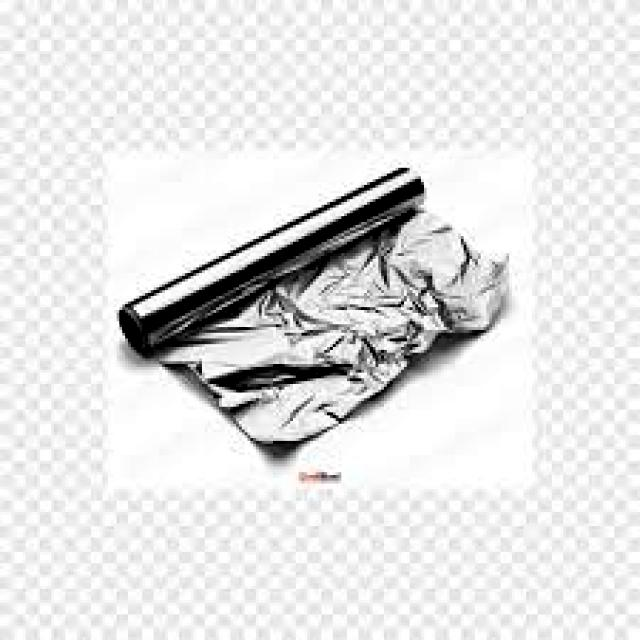Metal: (106, 158, 533, 474)
